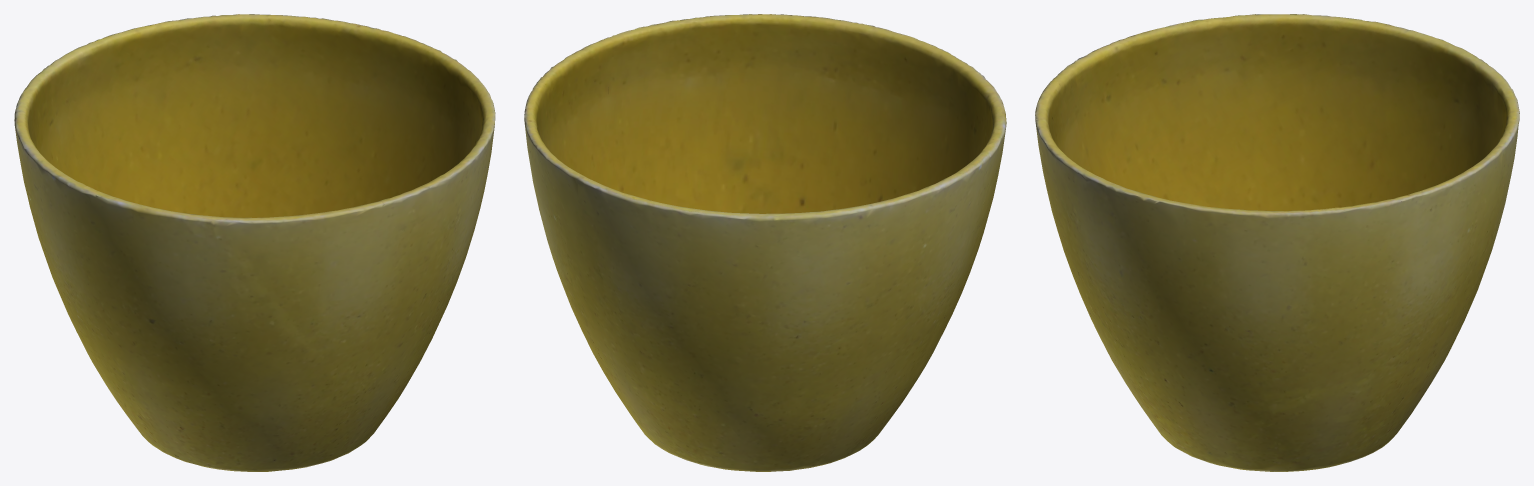
Rendered from Ecoforms_Plant_Container_B4_Har.glb.
3 renders of one model, left to right at view 1: azimuth 30°, elevation 25°; view 2: azimuth 150°, elevation 25°; view 3: azimuth 270°, elevation 25°, orthographic.
Parts seen in each view (by area): view 1: Ecoforms_Plant_Container_B4_Har; view 2: Ecoforms_Plant_Container_B4_Har; view 3: Ecoforms_Plant_Container_B4_Har.
Boxes of the visible parts, x1,y1,x2,y2 form: Ecoforms_Plant_Container_B4_Har: (14,14,495,471); Ecoforms_Plant_Container_B4_Har: (524,14,1006,471); Ecoforms_Plant_Container_B4_Har: (1035,14,1519,471).
Bounding box in the file's own units: 0.1008 × 0.0717 × 0.1009.
1 material, 1 textured.
